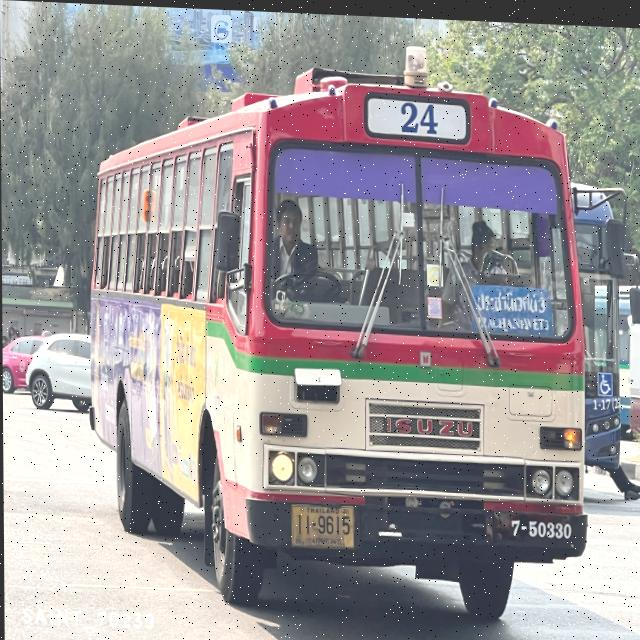BMTA-bus: (84, 12, 589, 640)
Bus-Line-Number: (365, 83, 471, 140)
Destination-Sign-Normal: (470, 280, 555, 338)
